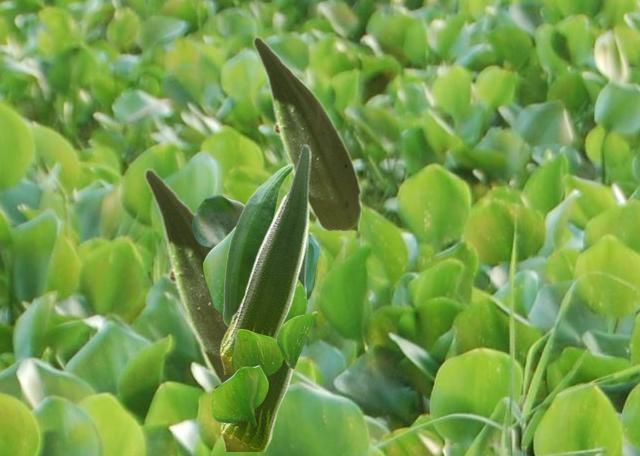okra: (252, 35, 360, 229), (219, 143, 310, 373), (143, 167, 232, 384), (220, 247, 307, 450), (222, 163, 293, 327)
